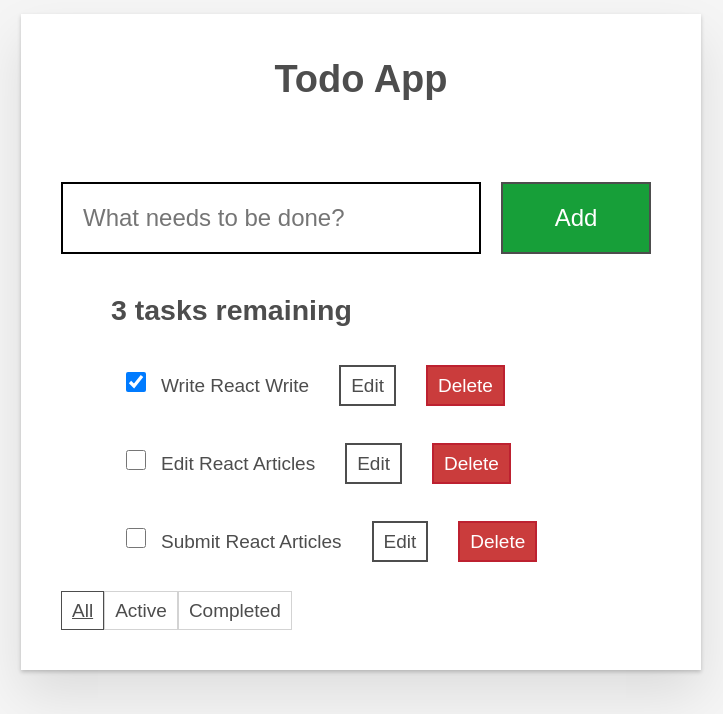
Test: user can complete and delete a todo
Type "Approve React Articles" into the field with placeholder "What needs to be done?".
click(271, 218); type("Approve React Articles")  # box [61, 182, 481, 254]
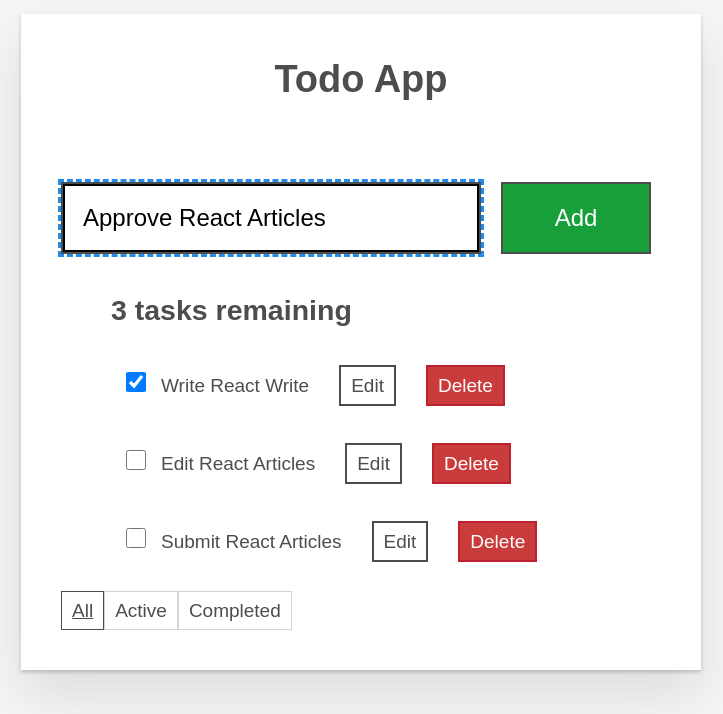
Click the button "Add".
click(576, 218)  # box [501, 182, 651, 254]
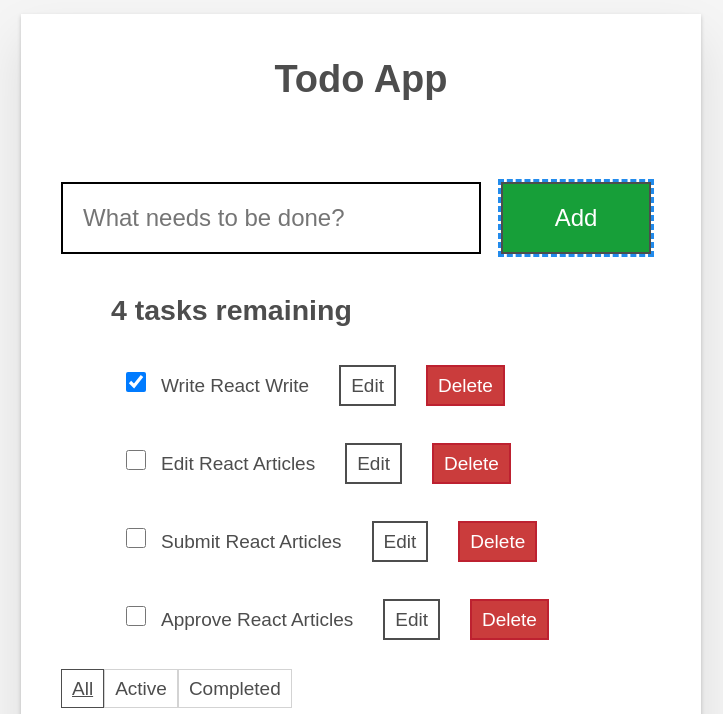
Click the checkbox labelled "Approve React Articles Edit Delete".
click(136, 616)  # box [126, 606, 146, 626]
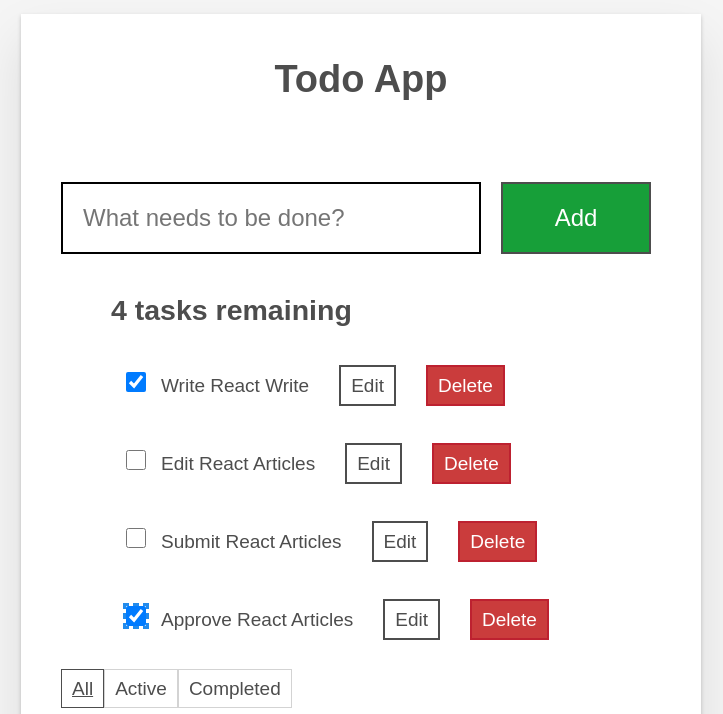
Now the checkbox labelled "Approve React Articles Edit Delete" is checked, box [126, 606, 146, 626]
Click the button "Delete" in the row of "Approve React Articles".
click(509, 620)  # box [470, 599, 549, 640]
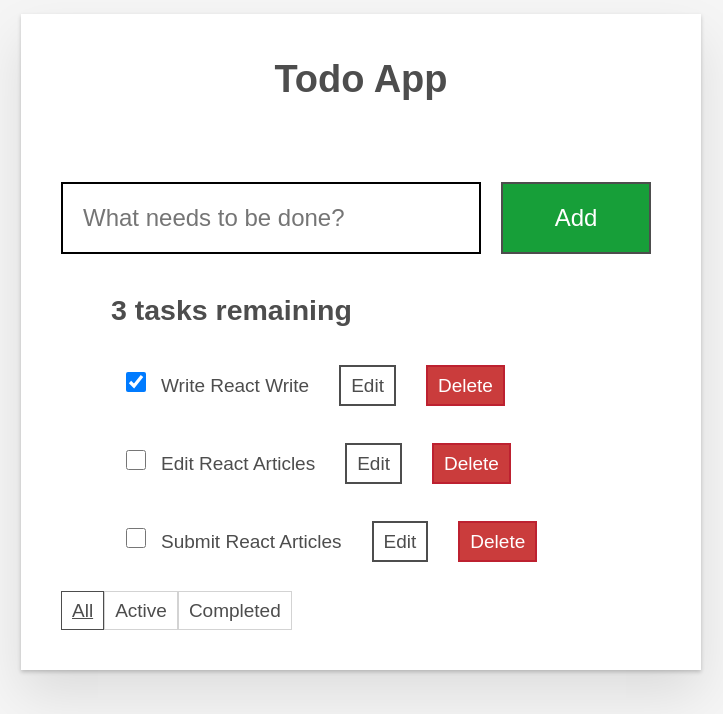
Now the text "Approve React Articles" is gone
